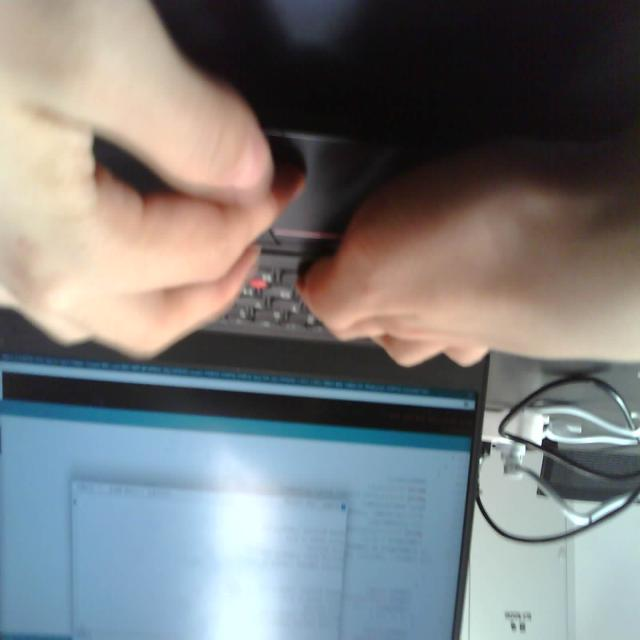keyboard-with-hands: (0, 88, 505, 355)
